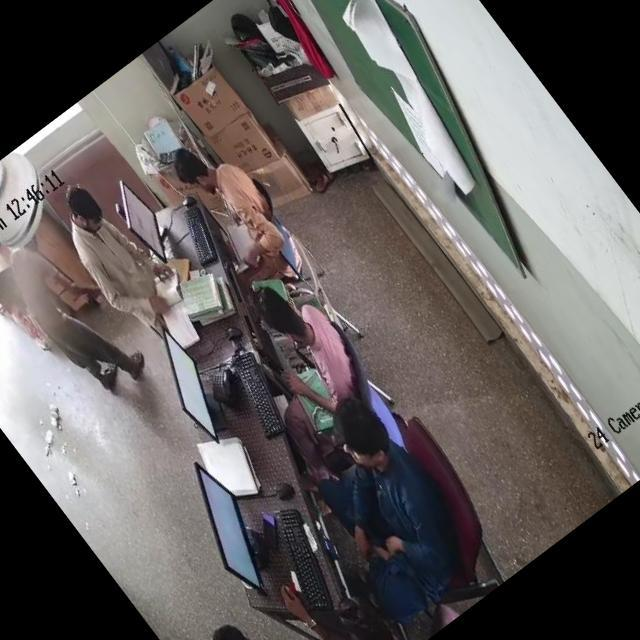person: (274, 382, 492, 618), (209, 262, 392, 465), (0, 229, 137, 400), (162, 126, 296, 282), (43, 175, 174, 328), (304, 568, 423, 640), (210, 603, 340, 640)
